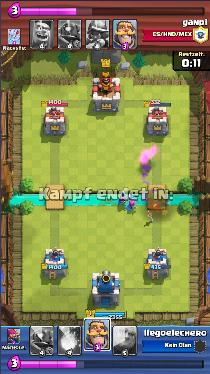ally_archer: (127, 201, 138, 212), (118, 196, 127, 207)
